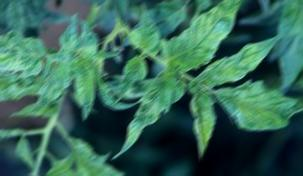Tomato leaf mosaic virus: (160, 0, 254, 74), (110, 73, 179, 162), (209, 75, 303, 138), (192, 32, 281, 95), (0, 21, 44, 78), (68, 59, 98, 124), (132, 2, 162, 51)
